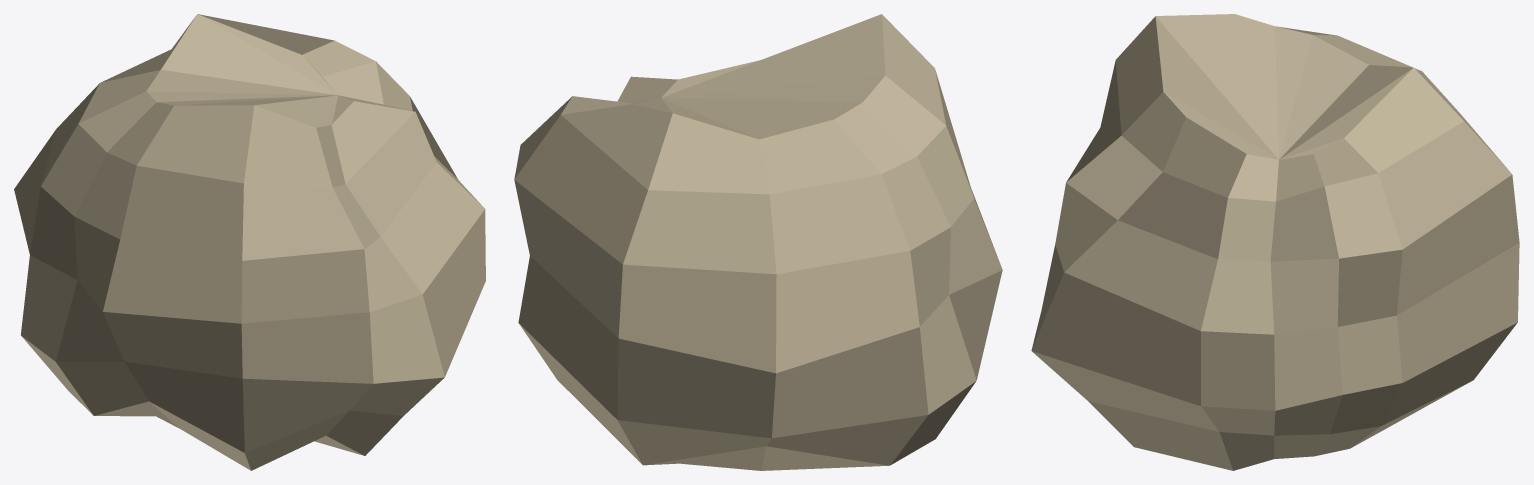
File: SM_Rock1.fbx
3 views of the same model, side by side, from view 1: azimuth 30°, elevation 25°; view 2: azimuth 150°, elevation 25°; view 3: azimuth 270°, elevation 25° (orthographic). The views are drawn at different scales.
Parts seen in each view (by area): view 1: pSphere7; view 2: pSphere7; view 3: pSphere7.
Boxes of the visible parts, <box> form: pSphere7: <box>14,14,485,470</box>; pSphere7: <box>514,14,1002,470</box>; pSphere7: <box>1031,14,1519,470</box>.
Size of the model in its own units: 1.96 by 1.75 by 1.97.
